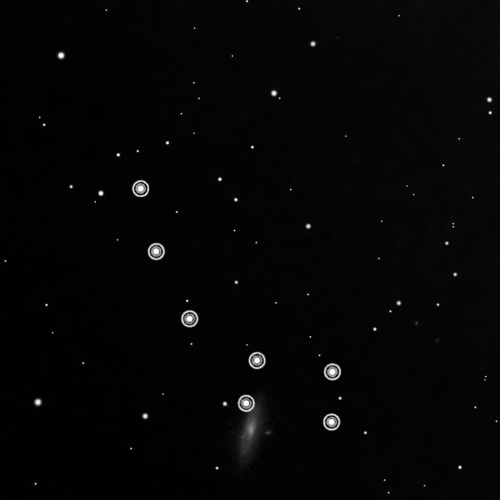ursa_minor: (125, 171, 351, 438)
